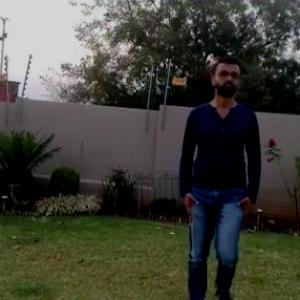follow: (170, 56, 261, 299)
